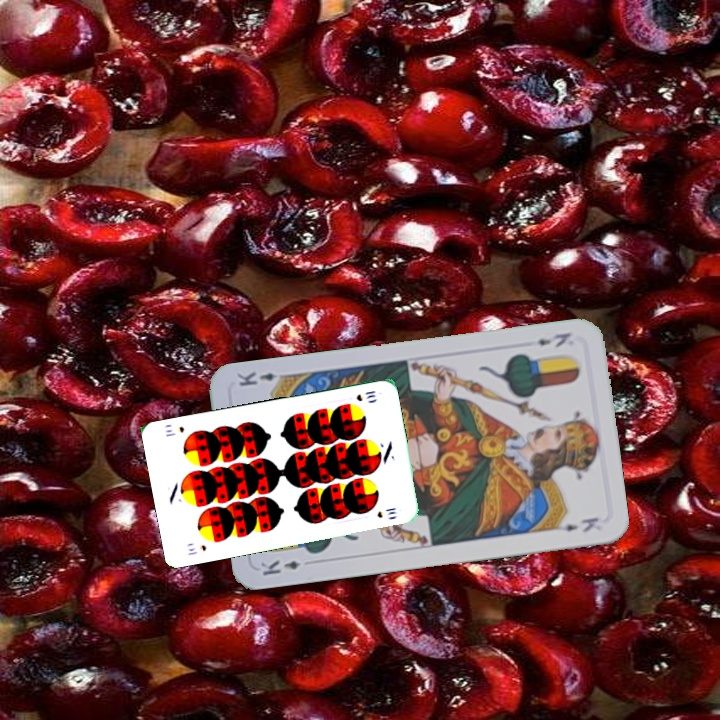EK: (256, 556, 303, 578), (533, 328, 574, 350)
S10: (352, 387, 378, 404), (184, 541, 209, 558)
